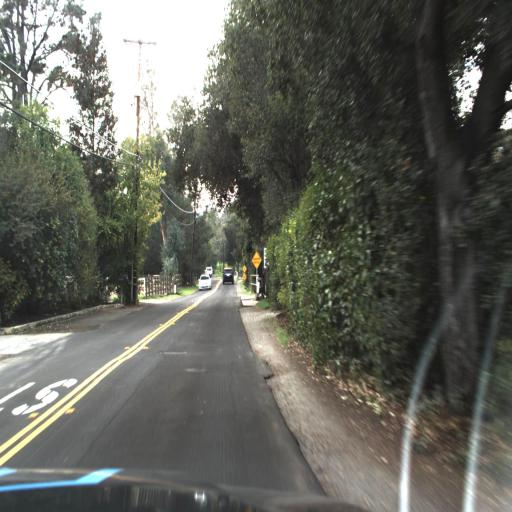car: (222, 266, 236, 287), (197, 273, 212, 289)
